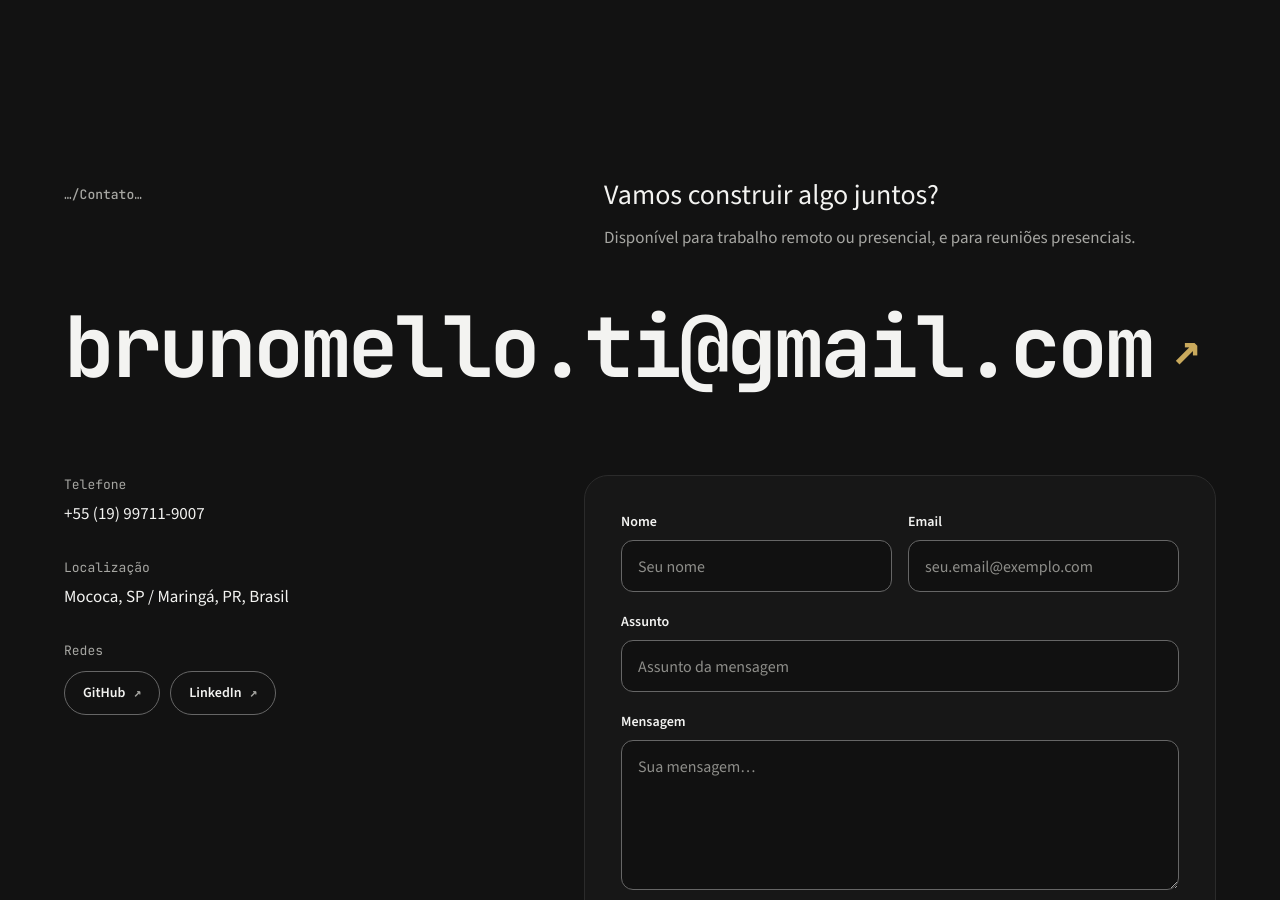
Test: <ContactSection /> › copies the address on click, keeps the mailto and announces it (CONT-06, CONT-07)
Step 1. Click the link "brunomello.ti@gmail.com ↗" → (631, 347), box [64,306,1198,387]
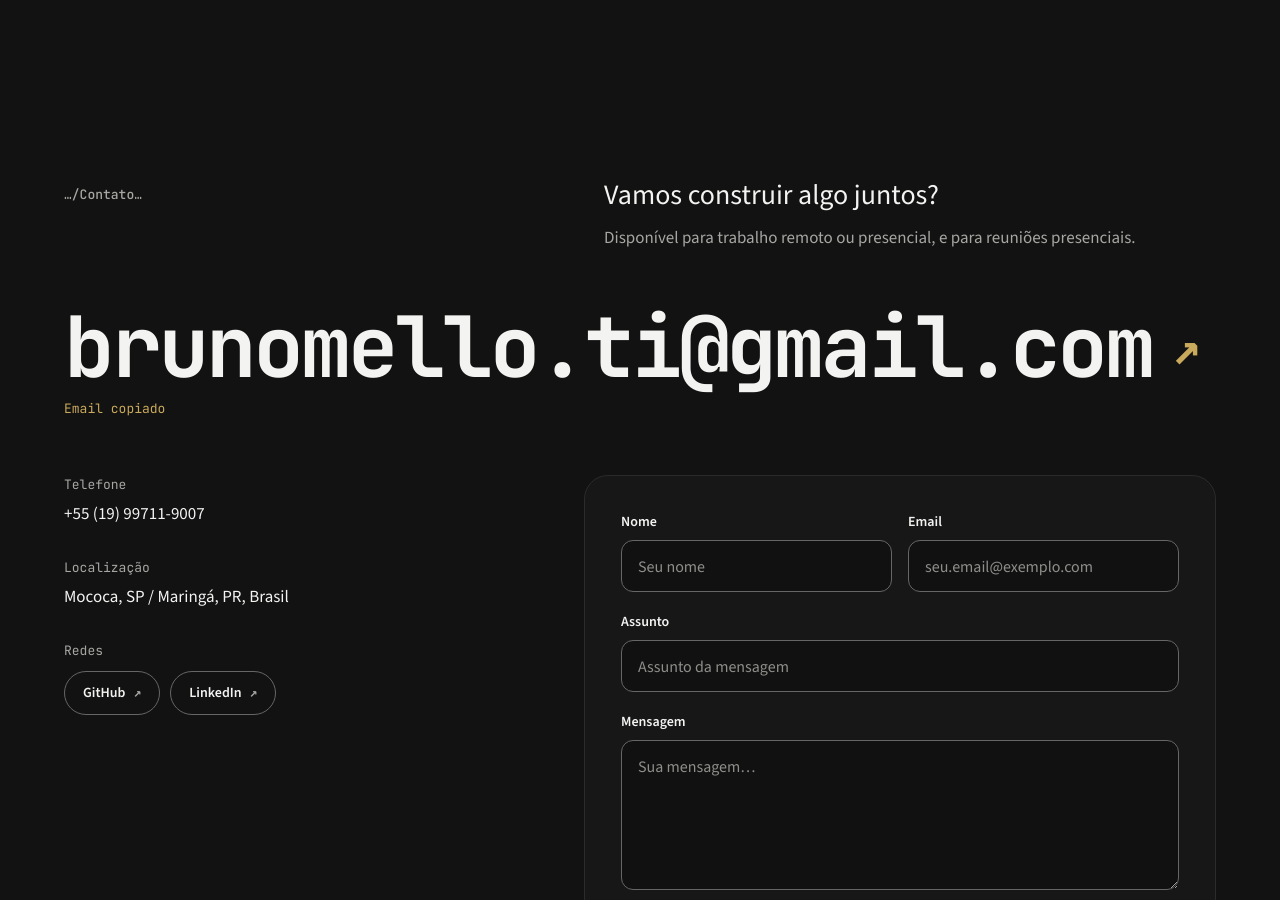
Expected: the text "Email copiado" is shown, [64,400,165,417]
